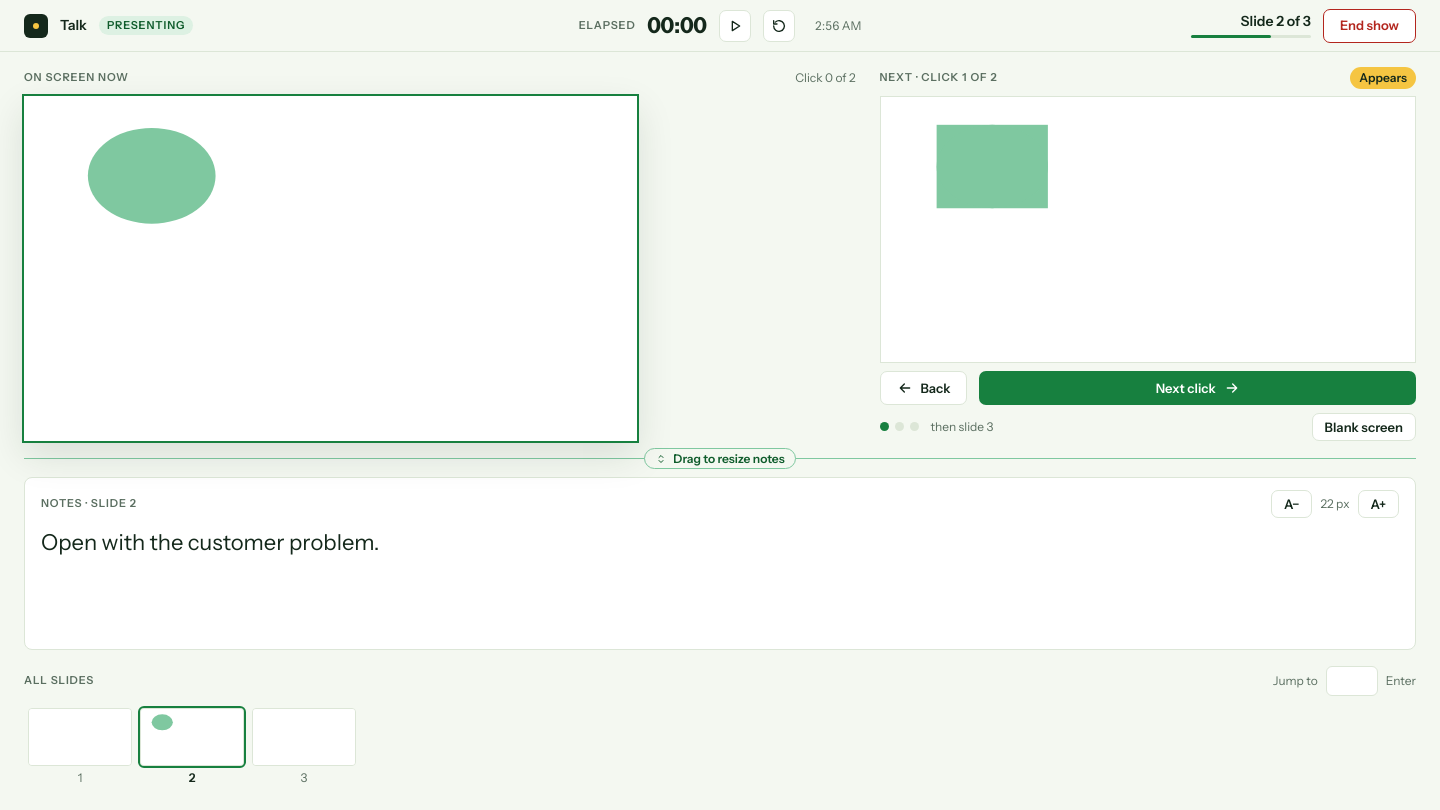
Test case: the presenter view (PM-2) › Given the next click, Then the badge says what it does, and the preview shows that state
Expected: the text "Appears" is shown, [1350, 67, 1416, 89]
Click the button "Next click". click: (1198, 388)
box: [979, 371, 1416, 405]
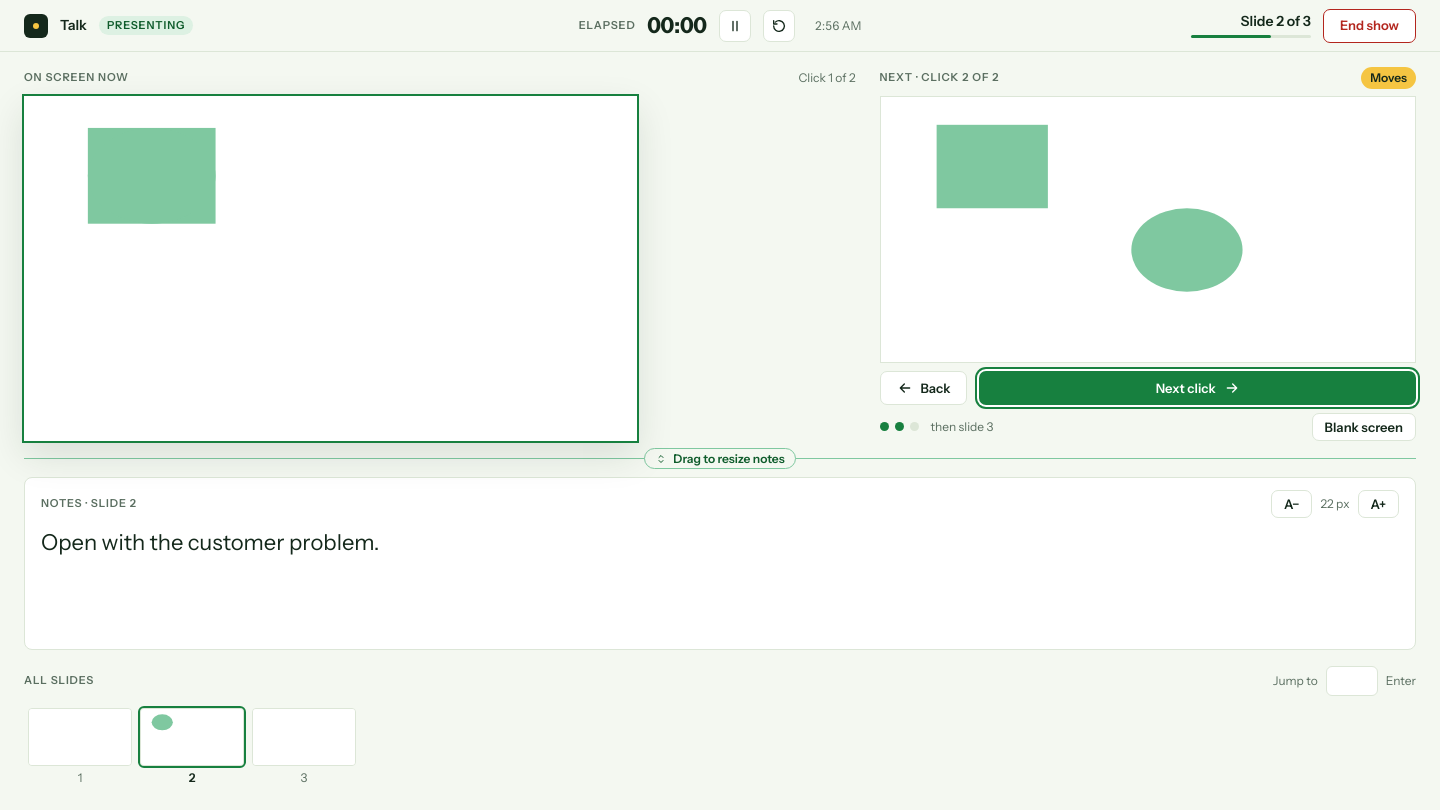
Expected: the heading "Next · Click 2 of 2" is shown, [880, 71, 999, 85]
Expected: the text "Moves" is shown, [1361, 67, 1416, 89]
Expected: the text "Click 1 of 2" is shown, [798, 70, 856, 86]
